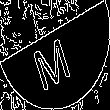M_NW: (32, 22, 78, 88)
